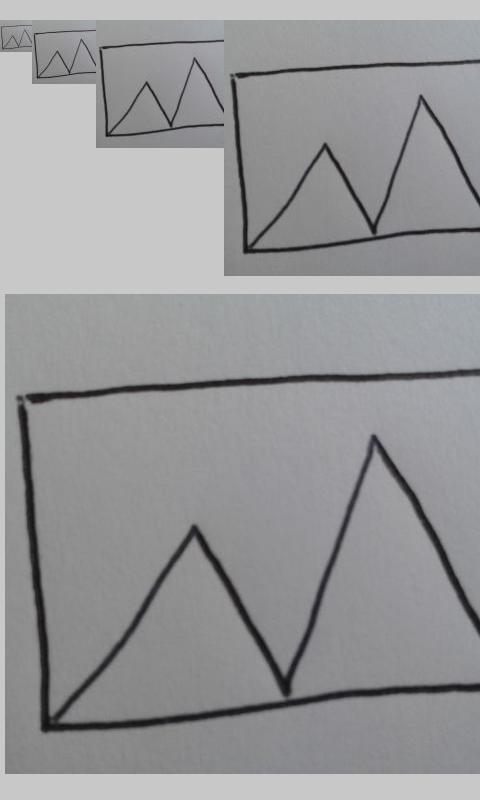image_view: (18, 368, 479, 733), (230, 58, 480, 255), (99, 38, 224, 138), (33, 29, 96, 79), (1, 24, 32, 50)
